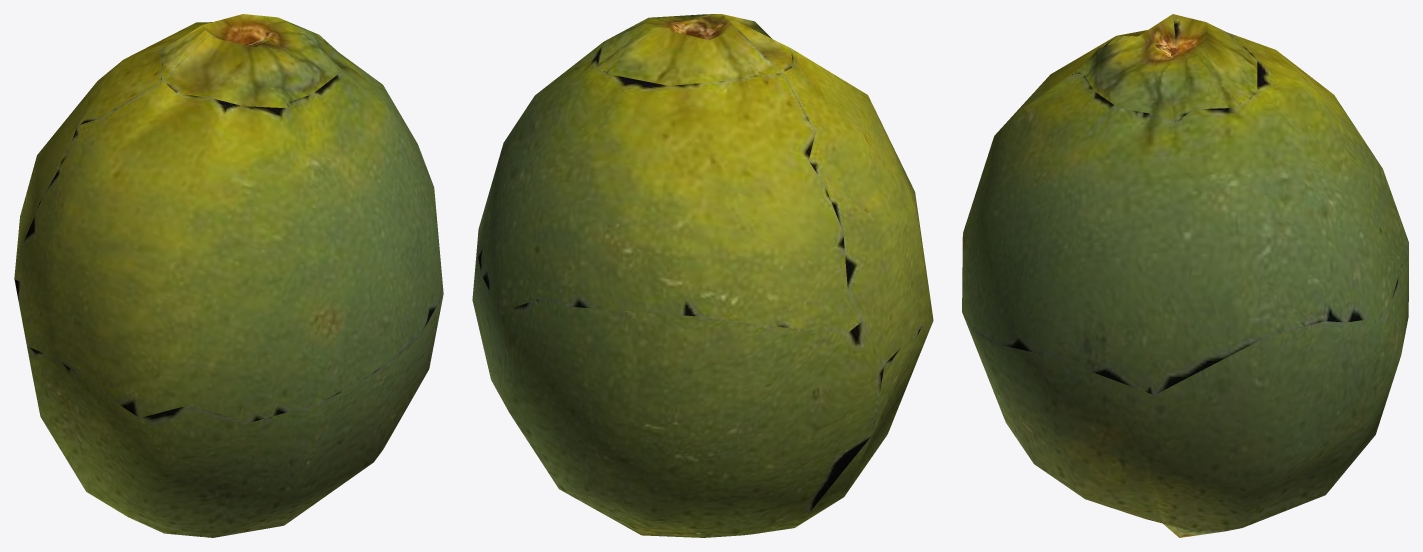
The model's file is food_lime_01.glb.
3 renders of one model, left to right at view 1: azimuth 30°, elevation 25°; view 2: azimuth 150°, elevation 25°; view 3: azimuth 270°, elevation 25°, orthographic.
Parts seen in each view (by area): view 1: food_lime_01; view 2: food_lime_01; view 3: food_lime_01.
Boxes of the visible parts, x1,y1,x2,y2 form: food_lime_01: (14,14,443,537); food_lime_01: (472,14,933,537); food_lime_01: (962,14,1408,537).
Size of the model in its own units: 0.0589 by 0.0751 by 0.0599.
Materials: 1 (1 with a texture image).
